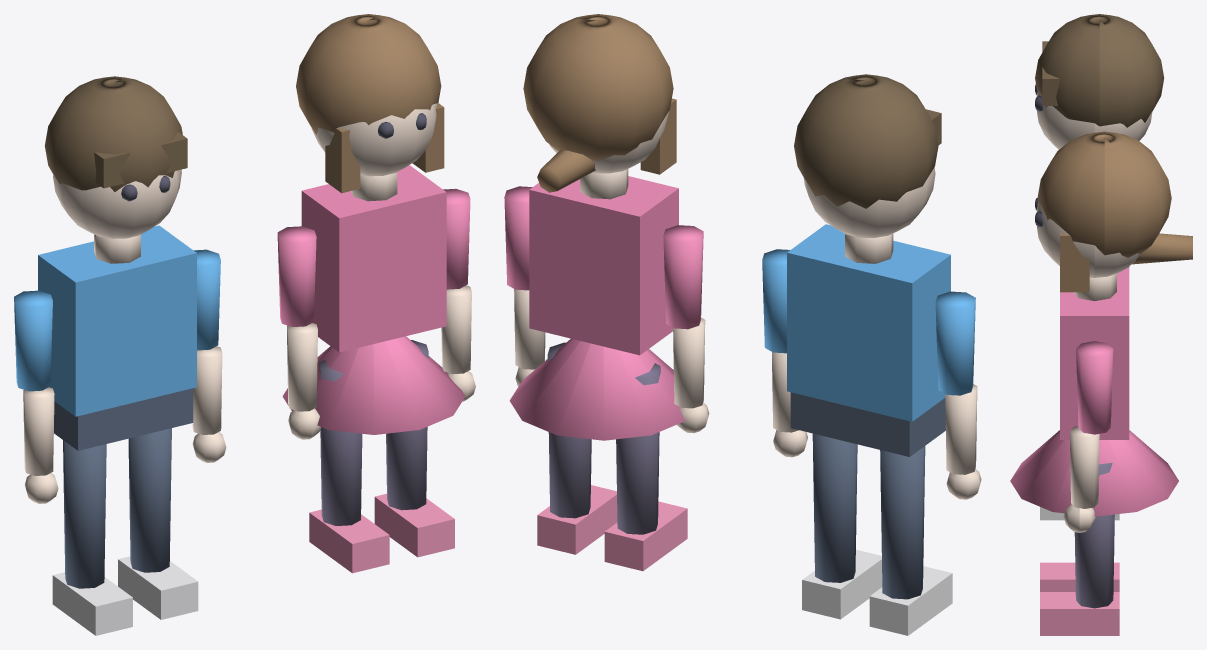
Rendered from bad3ab10-5d5a-424a-bff1-c97cfd1f44f6.glb.
The picture shows the model from 3 angles, left to right: view 1: azimuth 30°, elevation 25°; view 2: azimuth 150°, elevation 25°; view 3: azimuth 270°, elevation 25°; orthographic projection. The views are drawn at different scales.
Visible parts, largest first — view 1: Generated3DMesh; view 2: Generated3DMesh; view 3: Generated3DMesh.
Part boxes in pixels (x1,y1,x2,y2): Generated3DMesh: (14,14,475,635); Generated3DMesh: (504,14,981,635); Generated3DMesh: (1010,14,1192,635).
Size of the model in its own units: 1.94 by 2.12 by 0.735.
